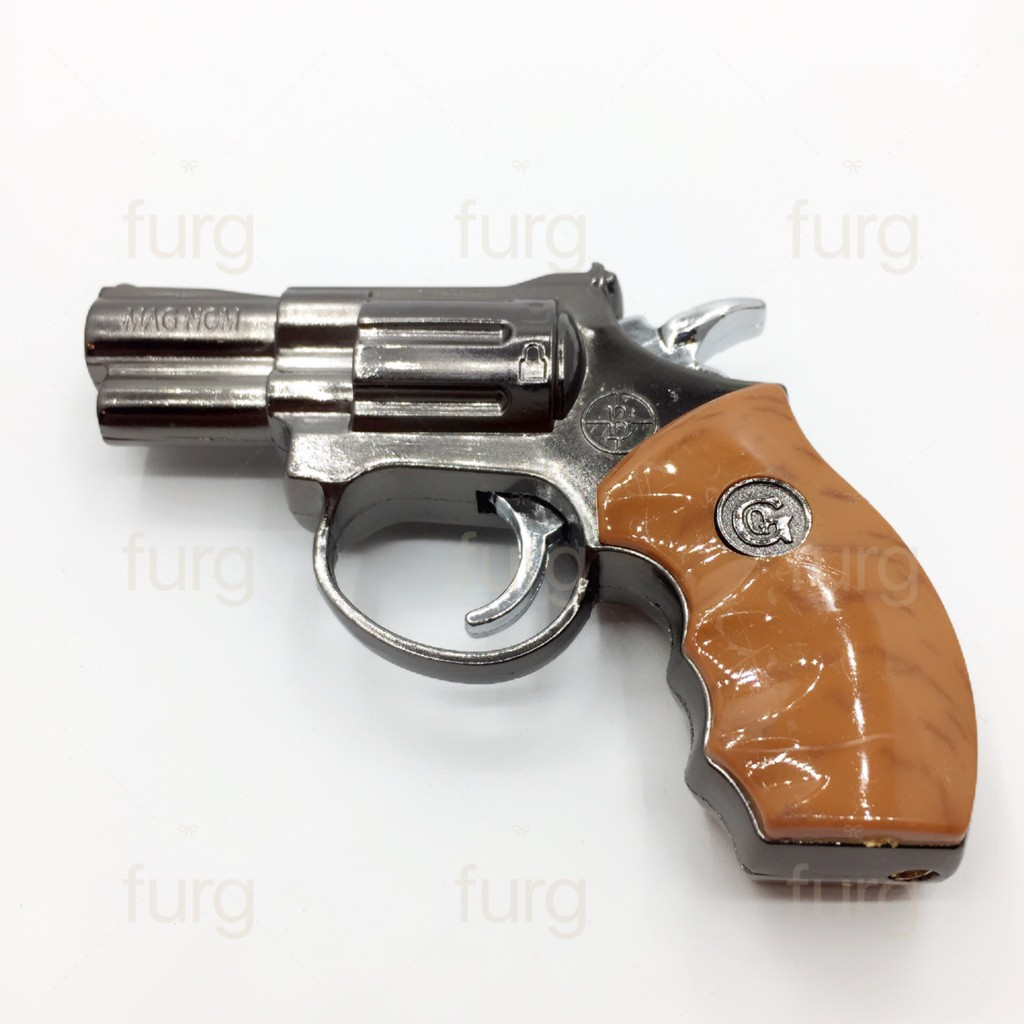gun: (70, 263, 1004, 911)
